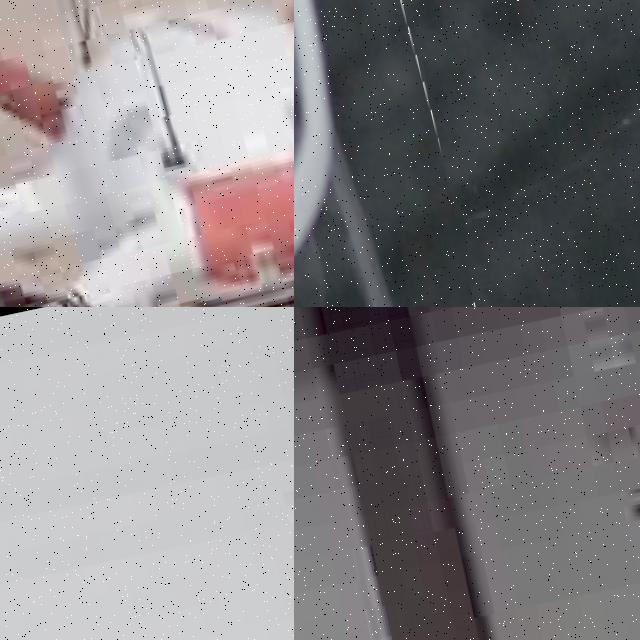0: (0, 0, 294, 307)
drone: (294, 0, 514, 307)
